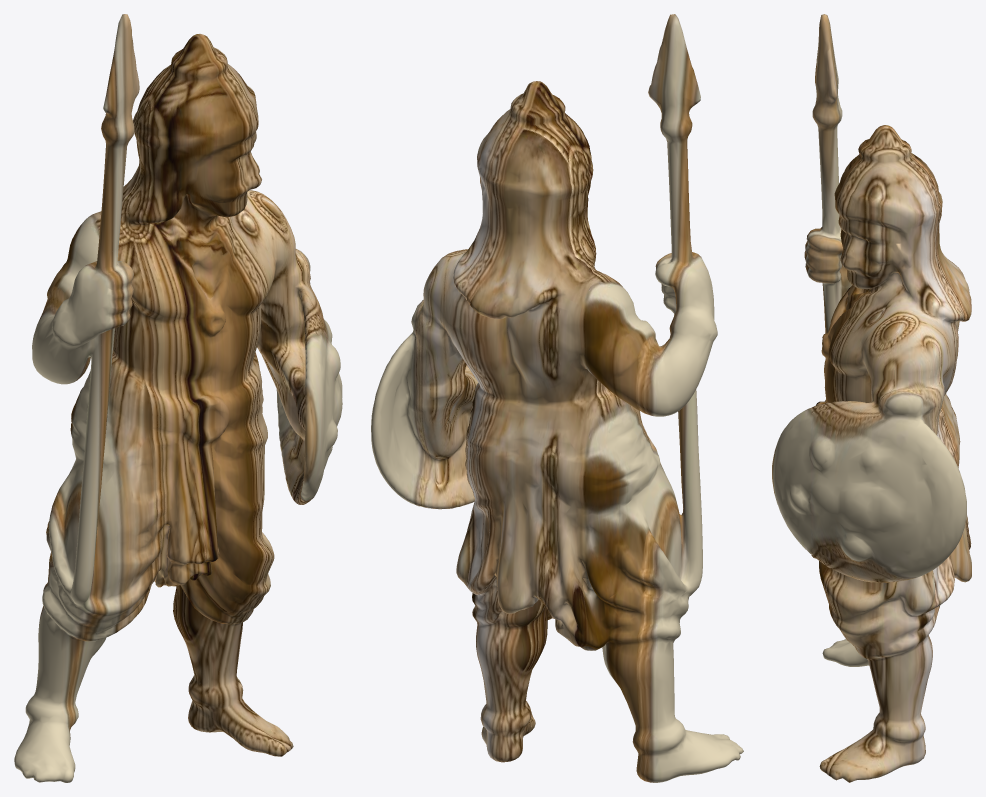
The model's file is padati.glb.
3 views of the same model, side by side, from view 1: azimuth 30°, elevation 25°; view 2: azimuth 150°, elevation 25°; view 3: azimuth 270°, elevation 25° (orthographic). The views are drawn at different scales.
Parts seen in each view (by area): view 1: geometry_0; view 2: geometry_0; view 3: geometry_0.
Part boxes in pixels (box(x1,y1,x2,y2)): geometry_0: box(14, 14, 342, 782); geometry_0: box(371, 14, 743, 782); geometry_0: box(772, 14, 971, 782).
Size of the model in its own units: 0.8888 by 2.01 by 0.5273.
Materials: 1 (1 with a texture image).
